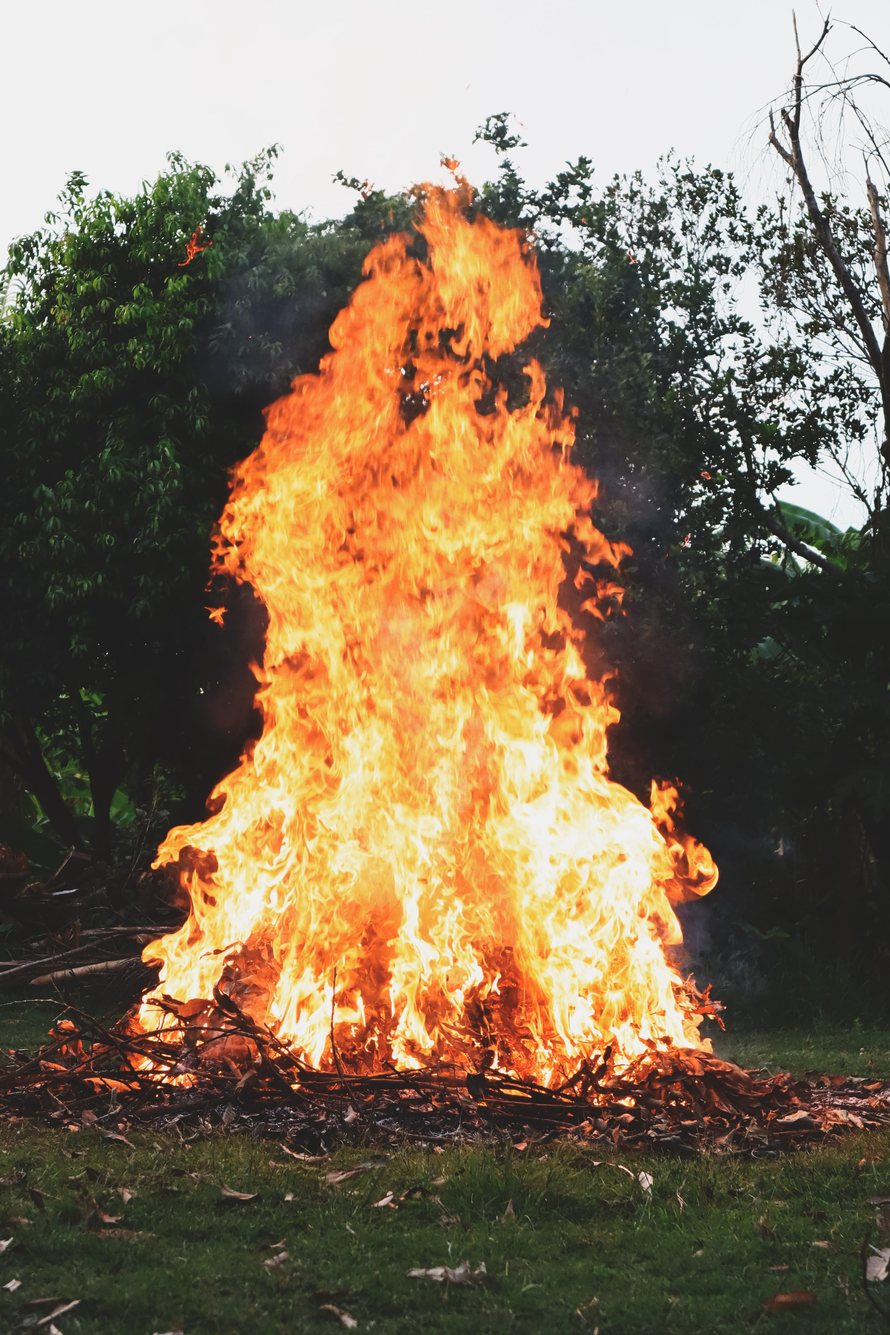fire: (80, 196, 803, 1121)
